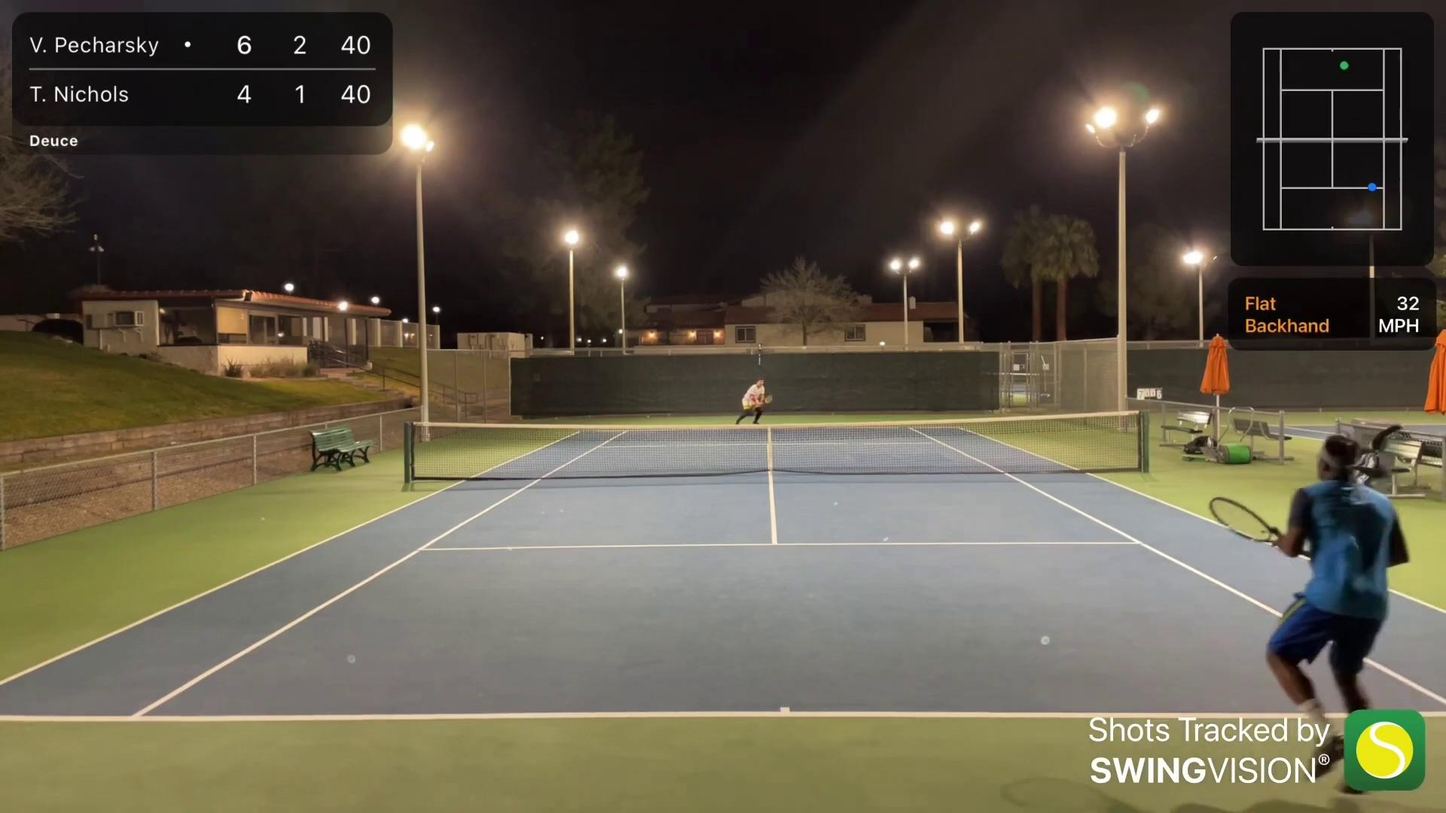ball: (802, 344, 809, 351)
